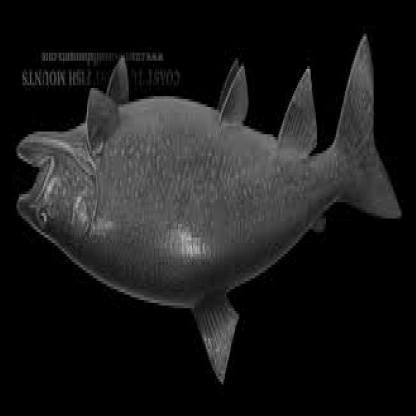fish: (16, 36, 400, 378)
